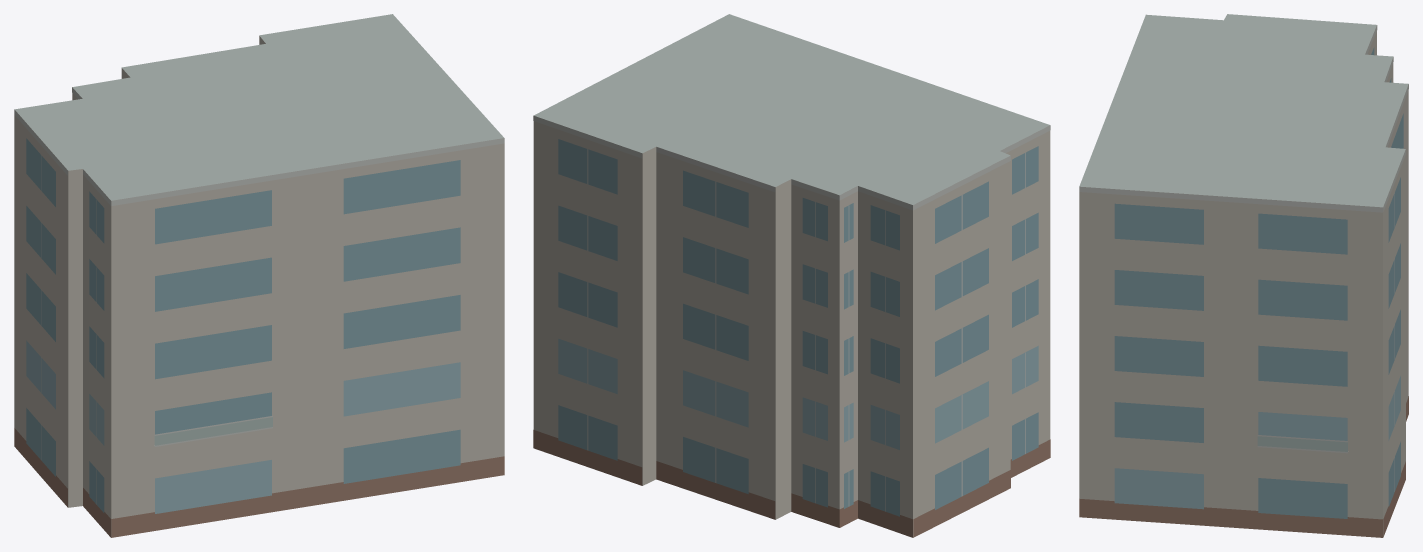
The model's file is survey-upis-32679688.glb.
3 views of the same model, side by side, from view 1: azimuth 30°, elevation 25°; view 2: azimuth 150°, elevation 25°; view 3: azimuth 270°, elevation 25° (orthographic).
Parts seen in each view (by area): view 1: survey-upis-32679688.tmp; view 2: survey-upis-32679688.tmp; view 3: survey-upis-32679688.tmp.
Part boxes in pixels (x1,y1,x2,y2): survey-upis-32679688.tmp: (14,14,504,537); survey-upis-32679688.tmp: (533,14,1050,537); survey-upis-32679688.tmp: (1079,14,1408,537).
Size of the model in its own units: 19.14 by 15.25 by 13.79.
